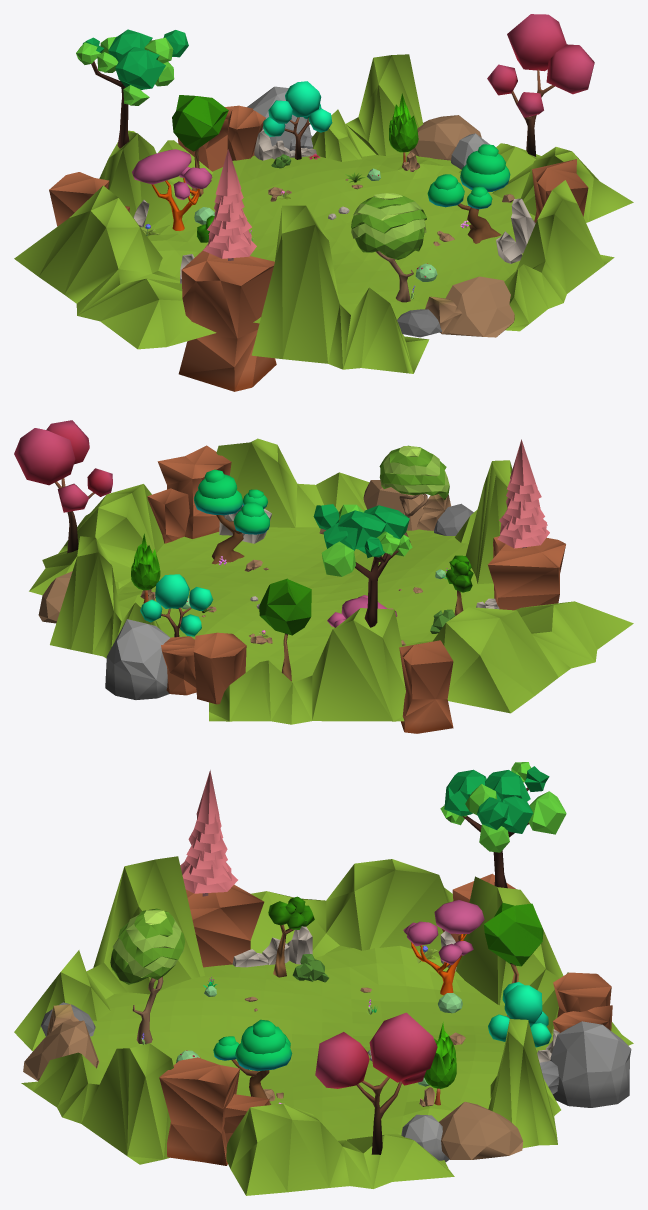
Rendered from Environment_Scene_3.fbx.
3 views of the same model, one above another, from view 1: azimuth 30°, elevation 25°; view 2: azimuth 150°, elevation 25°; view 3: azimuth 270°, elevation 25° (orthographic). The views are drawn at different scales.
Visible parts, largest first — view 1: Environment_Scene_3; view 2: Environment_Scene_3; view 3: Environment_Scene_3.
Part boxes in pixels (left/top/right/bottom): Environment_Scene_3: left=14, top=14, right=633, bottom=391; Environment_Scene_3: left=14, top=420, right=633, bottom=733; Environment_Scene_3: left=14, top=762, right=633, bottom=1195.
Size of the model in its own units: 3433 by 1411 by 3009.
